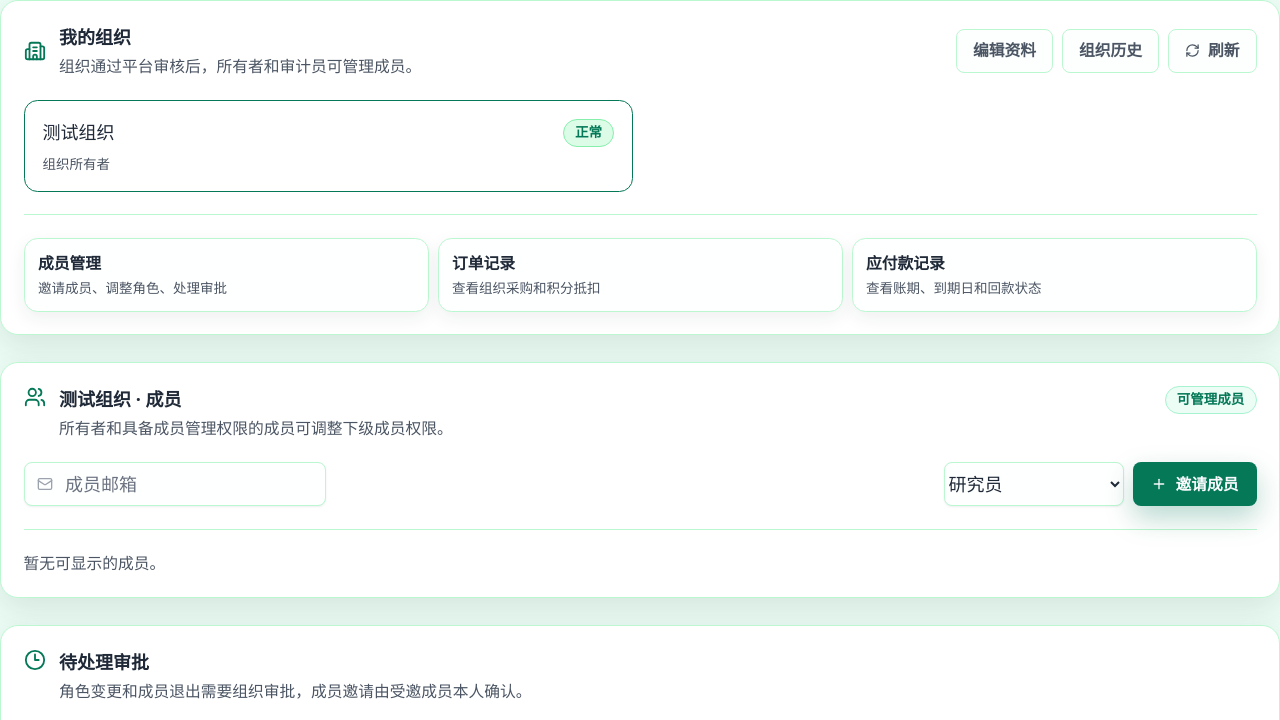
Scenario: OrganizationsPanel › 接口返回 MFA 校验要求时弹出二次验证窗口，验证通过后自动重试原操作
Type "new@test.com" into the field labelled "成员邮箱".
click(175, 484); type("new@test.com")  # box [24,462,326,506]
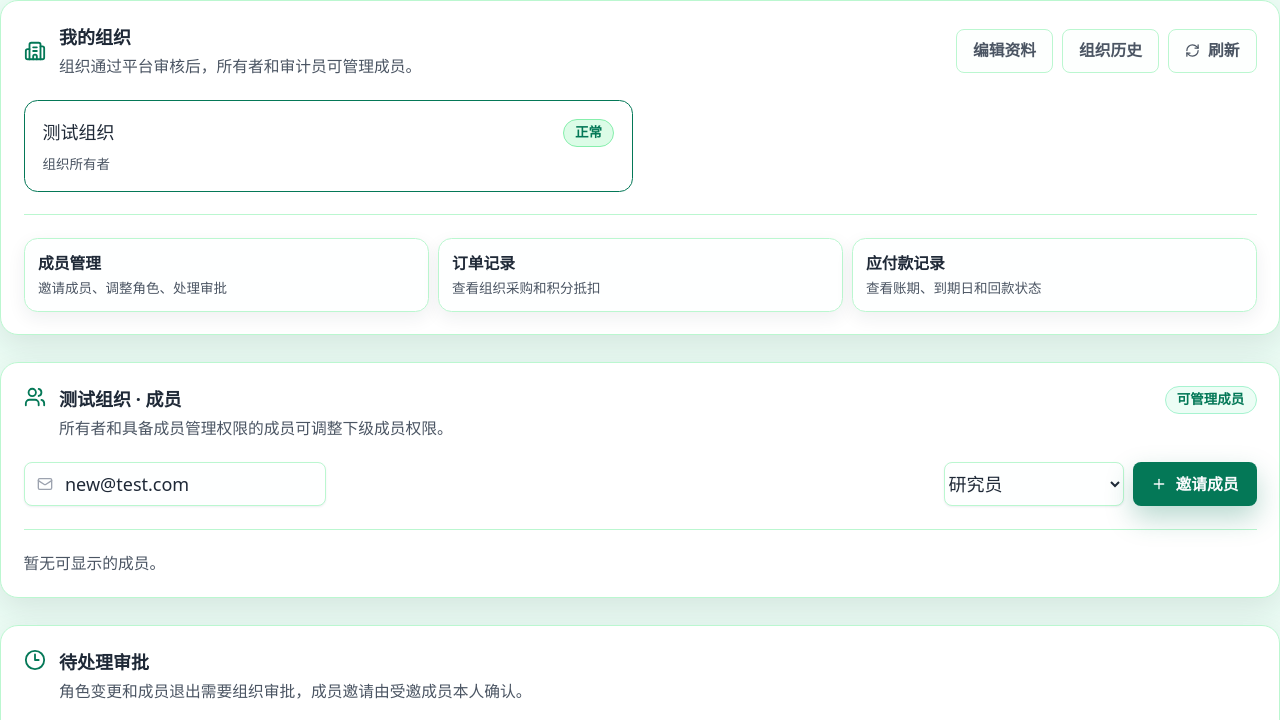
Click the button "邀请成员".
click(1194, 484)  # box [1132,462,1256,506]
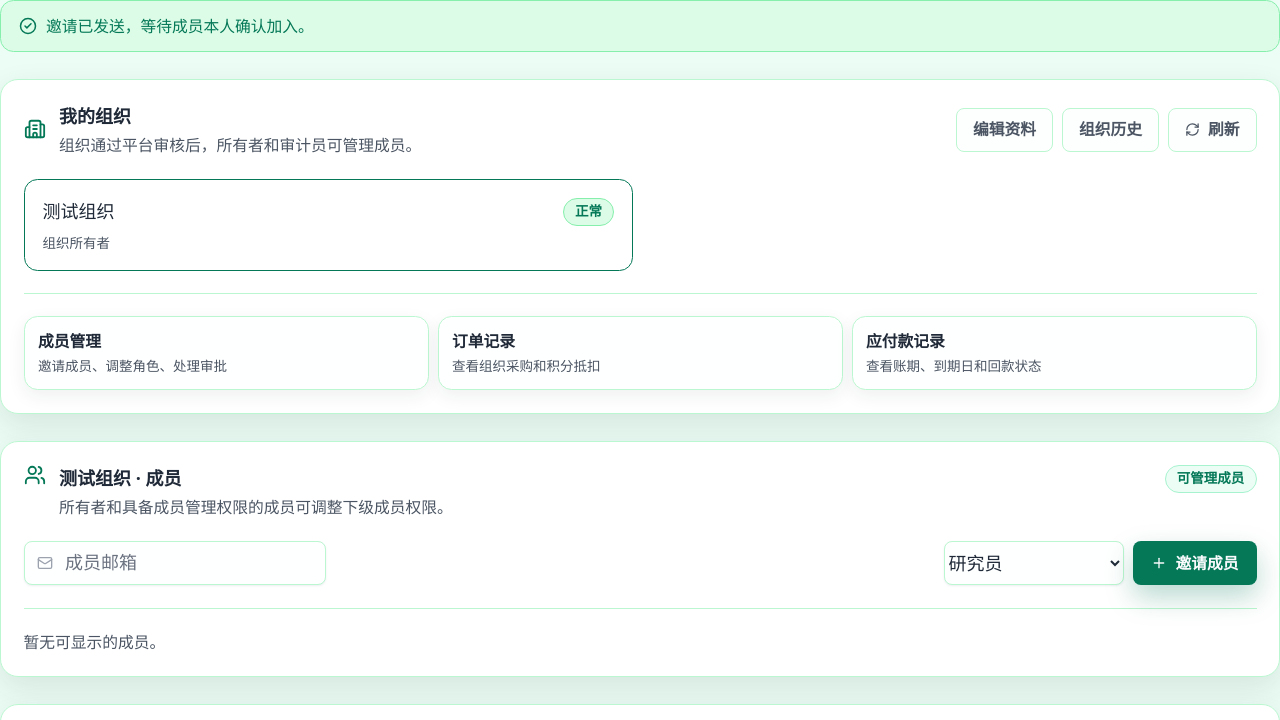
Expected: the text "邀请已发送，等待成员本人确认加入。" is shown, [46,14,314,37]
